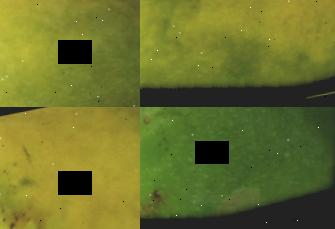PartiallyRipe: (140, 0, 335, 107), (0, 0, 140, 107)
Ripe: (0, 107, 140, 229)
Unripe: (140, 107, 335, 229)
